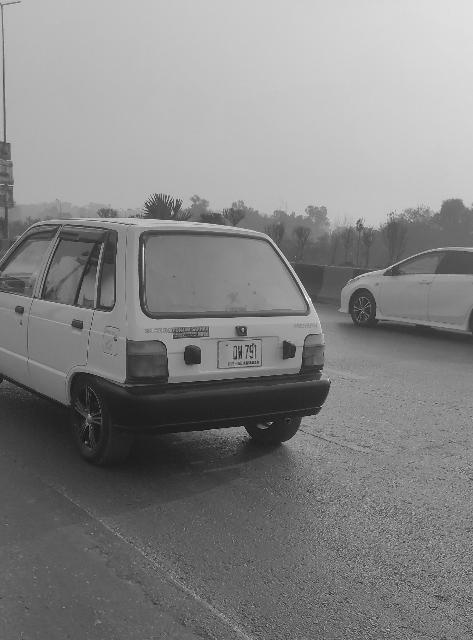Number: (232, 343, 260, 361)
